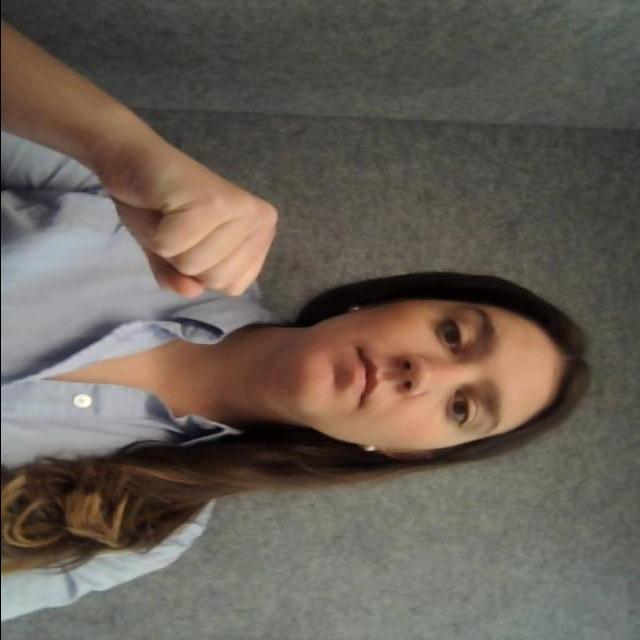Rock: (90, 134, 288, 322)
